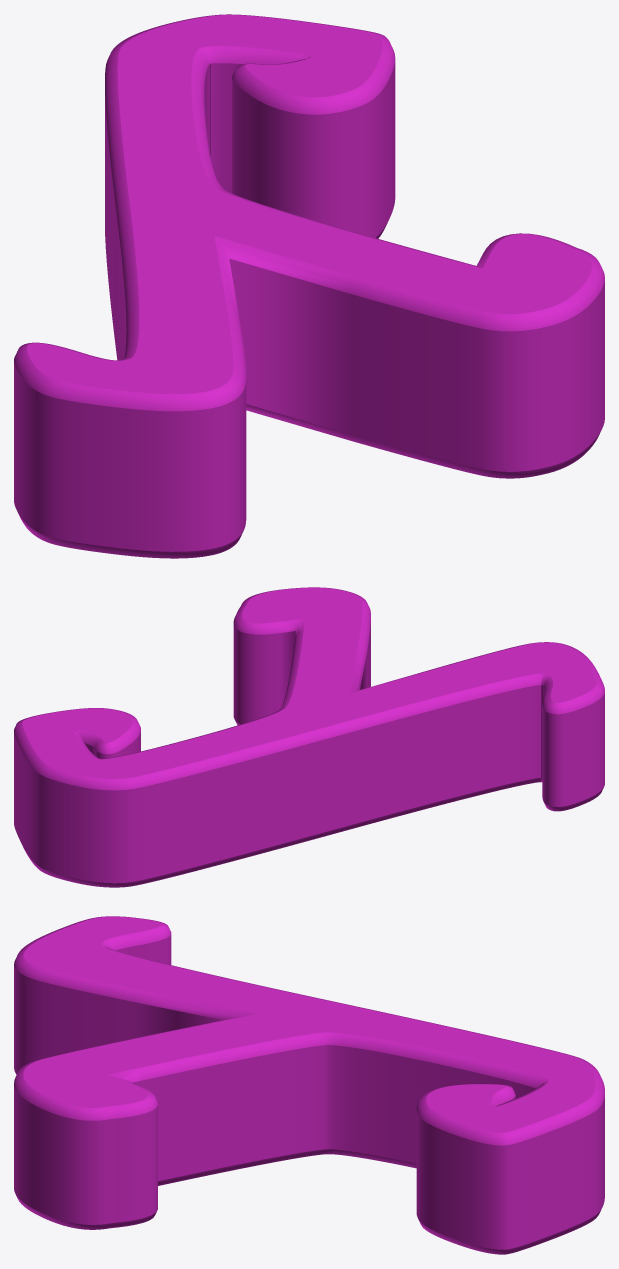
File: Letter_y_Small.fbx
3 renders of one model, top to bottom at view 1: azimuth 30°, elevation 25°; view 2: azimuth 150°, elevation 25°; view 3: azimuth 270°, elevation 25°, orthographic. The views are drawn at different scales.
Visible parts, largest first — view 1: Letter_y; view 2: Letter_y; view 3: Letter_y.
Part boxes in pixels (<box>): Letter_y: <box>14,14,604,558</box>; Letter_y: <box>14,587,604,887</box>; Letter_y: <box>14,916,604,1254</box>.
Bounding box in the file's own units: 0.5542 × 0.14 × 0.617.
